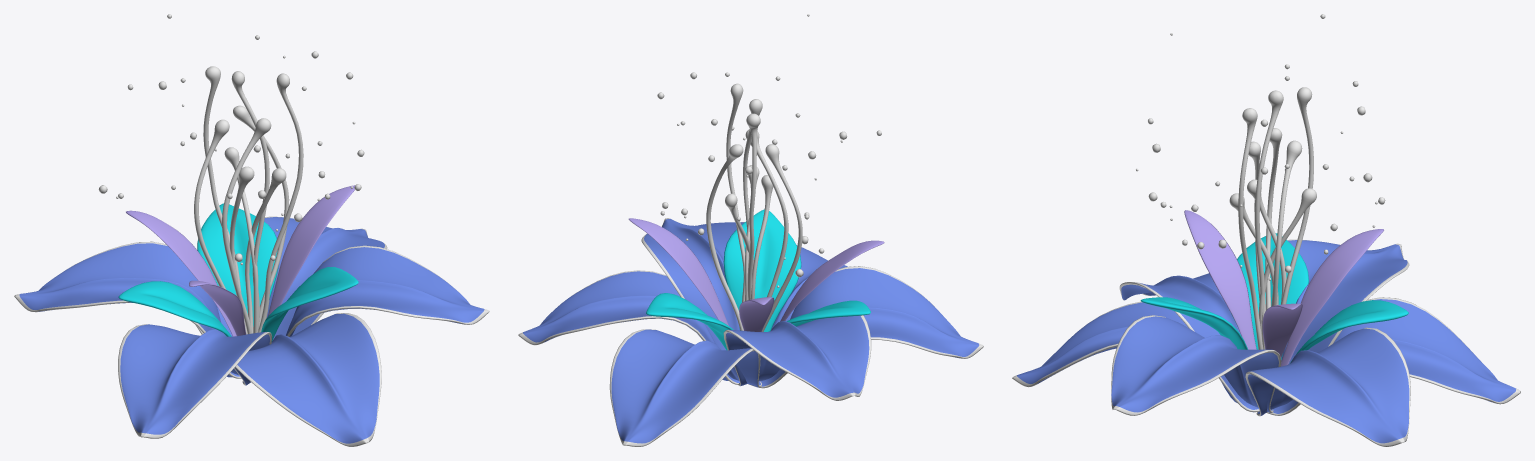
File: flower.glb
The picture shows the model from 3 angles, left to right: view 1: azimuth 30°, elevation 25°; view 2: azimuth 150°, elevation 25°; view 3: azimuth 270°, elevation 25°; orthographic projection. The views are drawn at different scales.
Visible parts, largest first — view 1: Plane.005, Plane.006, Plane.004, Plane.007, Vert.003, Plane.001, Vert.002, Plane.003, Vert.001, Plane.010, Plane.009, Plane.008 (+3 smaller); view 2: Plane, Plane.007, Plane.006, Plane.003, Plane.004, Plane.008, Vert.002, Vert.001, Vert.003, Plane.010, Plane.001, Plane.011 (+4 smaller); view 3: Plane.003, Plane.004, Plane, Plane.007, Plane.005, Plane.011, Vert.002, Plane.002, Plane.006, Vert.001, Vert.003, Plane.009 (+4 smaller).
Part boxes in pixels (x1=…): Plane.005: x1=234, y1=313, x2=381, y2=446; Plane.006: x1=118, y1=324, x2=271, y2=438; Plane.004: x1=286, y1=245, x2=489, y2=336; Plane.007: x1=14, y1=241, x2=241, y2=378; Vert.003: x1=222, y1=73, x2=303, y2=334; Plane.001: x1=197, y1=203, x2=278, y2=326; Vert.002: x1=203, y1=66, x2=289, y2=333; Plane.003: x1=264, y1=216, x2=387, y2=340; Vert.001: x1=194, y1=71, x2=269, y2=334; Plane.010: x1=267, y1=185, x2=354, y2=316; Plane.009: x1=118, y1=281, x2=231, y2=336; Plane.008: x1=261, y1=267, x2=358, y2=341; Plane: x1=609, y1=329, x2=761, y2=446; Plane.007: x1=723, y1=315, x2=871, y2=400; Plane.006: x1=748, y1=266, x2=983, y2=388; Plane.003: x1=518, y1=270, x2=739, y2=384; Plane.004: x1=641, y1=218, x2=744, y2=350; Plane.008: x1=723, y1=209, x2=801, y2=331; Vert.002: x1=706, y1=113, x2=760, y2=330; Vert.001: x1=743, y1=99, x2=802, y2=331; Vert.003: x1=726, y1=83, x2=788, y2=302; Plane.010: x1=628, y1=218, x2=728, y2=325; Plane.001: x1=646, y1=293, x2=733, y2=350; Plane.011: x1=780, y1=240, x2=884, y2=321; Plane.003: x1=1245, y1=327, x2=1410, y2=446; Plane.004: x1=1111, y1=315, x2=1281, y2=415; Plane: x1=1266, y1=297, x2=1520, y2=415; Plane.007: x1=1281, y1=239, x2=1409, y2=363; Plane.005: x1=1012, y1=301, x2=1259, y2=412; Plane.011: x1=1184, y1=210, x2=1256, y2=349; Vert.002: x1=1259, y1=87, x2=1316, y2=338; Plane.002: x1=1280, y1=229, x2=1383, y2=366; Plane.006: x1=1119, y1=273, x2=1240, y2=337; Vert.001: x1=1247, y1=90, x2=1286, y2=349; Vert.003: x1=1229, y1=108, x2=1278, y2=349; Plane.009: x1=1231, y1=233, x2=1308, y2=359.
Bounding box in the file's own units: 5.64 × 5.4 × 6.74.
